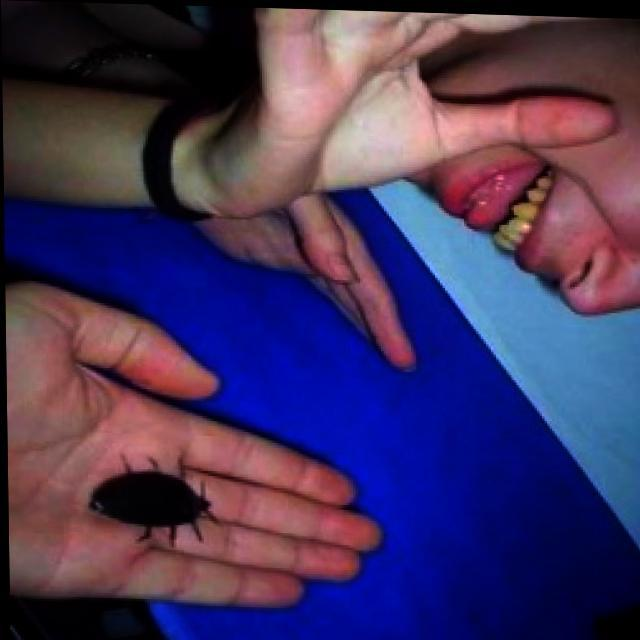cockroach: (84, 450, 223, 551)
